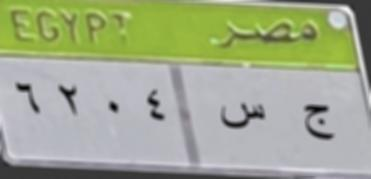0: (100, 92, 127, 126)
2: (52, 76, 84, 120)
4: (142, 81, 172, 128)
6: (12, 73, 44, 120)
jeem: (292, 94, 336, 148)
seen: (219, 93, 266, 140)
